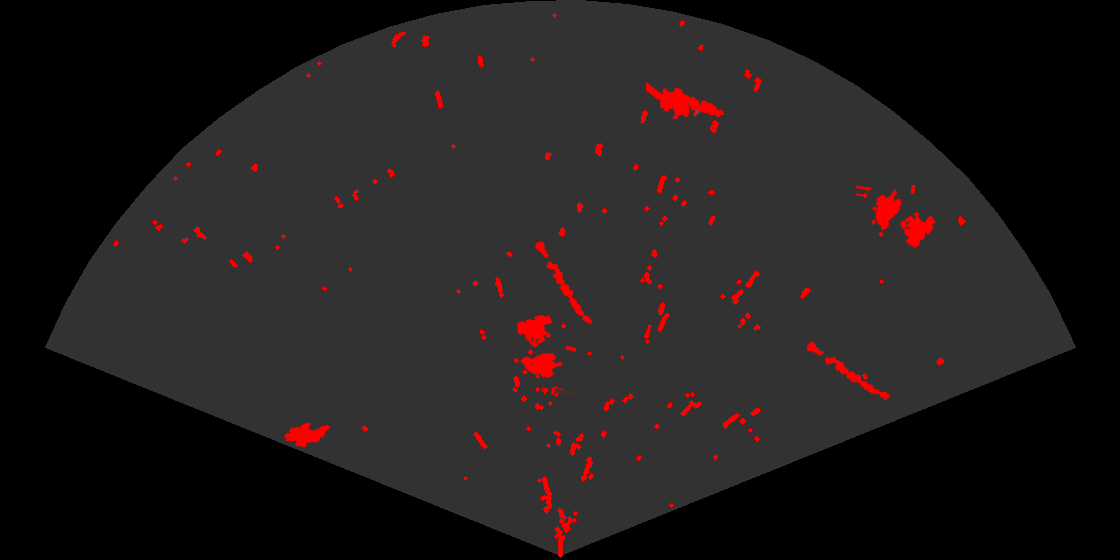AUV: (282, 421, 332, 449)
cage: (512, 313, 576, 395), (856, 185, 937, 249)
chain: (534, 239, 594, 326), (805, 340, 891, 400)
frogman: (646, 81, 726, 121)
